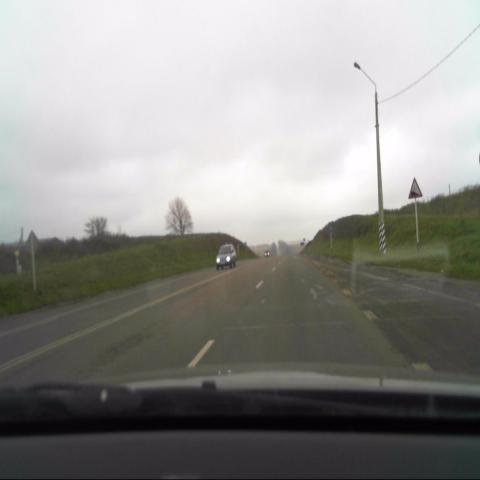1_13: (407, 175, 423, 201)
